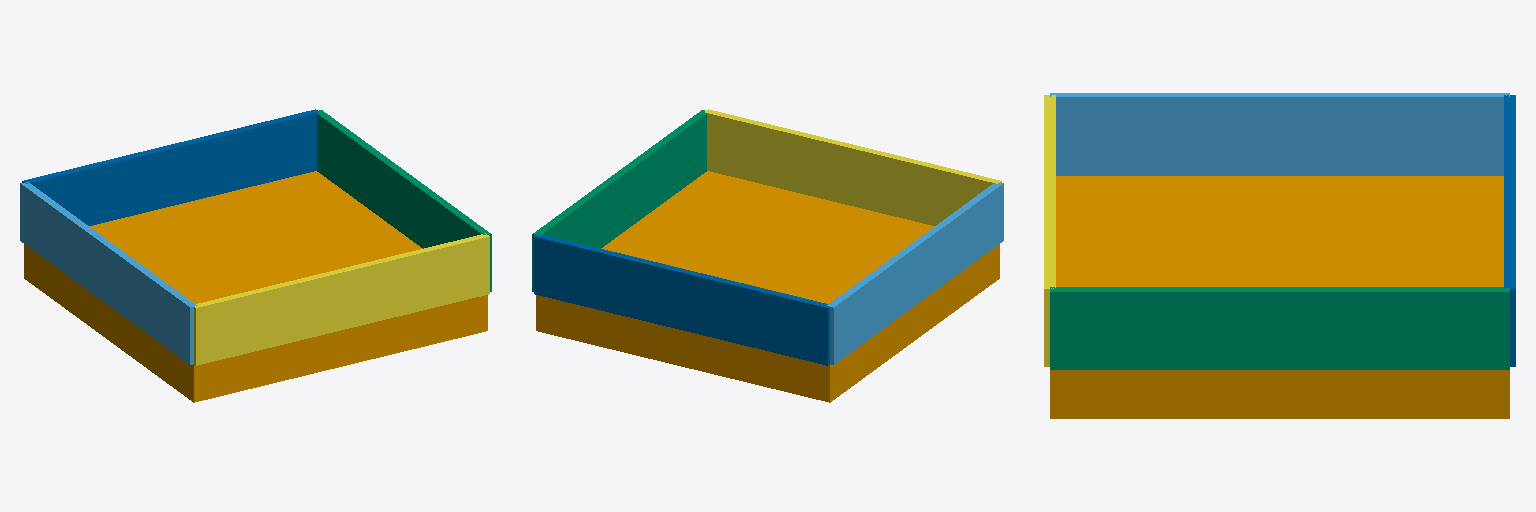
robot.urdf — cube:
<?xml version="1.0" ?>
<robot name="cube">
    <link name="base">
        <contact>
            <lateral_friction value="1.0"/>
            <rolling_friction value="0.0"/>
            <contact_cfm value="0.0"/>
            <contact_erp value="1.0"/>
        </contact>
        <inertial>
            <origin rpy="0 0 0" xyz="0 0 0"/>
            <mass value="100.0"/>
            <inertia ixx="1" ixy="0" ixz="0" iyy="1" iyz="0" izz="1"/>
        </inertial>
        <visual>
            <origin rpy="0 0 0" xyz="0 0 0"/>
            <geometry>
                <box size="8 8 1"/>
            </geometry>
        </visual>
        <collision>
            <origin rpy="0 0 0" xyz="0 0 0"/>
            <geometry>
                <box size="8 8 1"/>
            </geometry>
        </collision>
    </link>
    <joint name="wall_S" type="fixed" >
        <parent link = "base" />
        <child link="wall_S" />
                <origin rpy = "0 0 0" xyz = "-4 0.0 0.5" />
    </joint>
    <link name="wall_S">
        <contact>
            <lateral_friction value="1.0"/>
            <rolling_friction value="0.0"/>
            <contact_cfm value="0.0"/>
            <contact_erp value="1.0"/>
        </contact>
        <inertial>
            <origin rpy="0 0 0" xyz="0 0 0.75"/>
            <mass value="10.0"/>
            <inertia ixx="1" ixy="0" ixz="0" iyy="1" iyz="0" izz="1"/>
        </inertial>
        <visual>
            <origin rpy="0 0 0" xyz="0 0 0.75"/>
            <geometry>
                <box size="0.2 8 1.5"/>
            </geometry>
        </visual>
        <collision>
            <origin rpy="0 0 0" xyz="0 0 0.75"/>
            <geometry>
                <box size="0.2 8 1.5"/>
            </geometry>
        </collision>
    </link>
    <joint name="wall_N" type="fixed" >
        <parent link = "base" />
        <child link="wall_N" />
                <origin rpy = "0 0 0" xyz = "4.0 0.0 0.5" />
    </joint>
    <link name="wall_N">
        <contact>
            <lateral_friction value="1.0"/>
            <rolling_friction value="0.0"/>
            <contact_cfm value="0.0"/>
            <contact_erp value="1.0"/>
        </contact>
        <inertial>
            <origin rpy="0 0 0" xyz="0 0 0.75"/>
            <mass value="10.0"/>
            <inertia ixx="1" ixy="0" ixz="0" iyy="1" iyz="0" izz="1"/>
        </inertial>
        <visual>
            <origin rpy="0 0 0" xyz="0 0 0.75"/>
            <geometry>
                <box size="0.2 8 1.5"/>
            </geometry>
        </visual>
        <collision>
            <origin rpy="0 0 0" xyz="0 0 0.75"/>
            <geometry>
                <box size="0.2 8 1.5"/>
            </geometry>
        </collision>
    </link>
    <joint name="wall_W" type="fixed" >
        <parent link = "base" />
        <child link="wall_W" />
                <origin rpy = "0 0 0" xyz = "0.0 -4.0 0.5" />
    </joint>
    <link name="wall_W">
        <contact>
            <lateral_friction value="1.0"/>
            <rolling_friction value="0.0"/>
            <contact_cfm value="0.0"/>
            <contact_erp value="1.0"/>
        </contact>
        <inertial>
            <origin rpy="0 0 0" xyz="0 0 0.75"/>
            <mass value="10.0"/>
            <inertia ixx="1" ixy="0" ixz="0" iyy="1" iyz="0" izz="1"/>
        </inertial>
        <visual>
            <origin rpy="0 0 0" xyz="0 0 0.75"/>
            <geometry>
                <box size="8 0.2 1.5"/>
            </geometry>
        </visual>
        <collision>
            <origin rpy="0 0 0" xyz="0 0 0.75"/>
            <geometry>
                <box size="8 0.2 1.5"/>
            </geometry>
        </collision>
    </link>
    <joint name="wall_E" type="fixed" >
        <parent link = "base" />
        <child link="wall_E" />
                <origin rpy = "0 0 0" xyz = "0.0 4.0 0.5" />
    </joint>
    <link name="wall_E">
        <contact>
            <lateral_friction value="1.0"/>
            <rolling_friction value="0.0"/>
            <contact_cfm value="0.0"/>
            <contact_erp value="1.0"/>
        </contact>
        <inertial>
            <origin rpy="0 0 0" xyz="0 0 0.75"/>
            <mass value="10.0"/>
            <inertia ixx="1" ixy="0" ixz="0" iyy="1" iyz="0" izz="1"/>
        </inertial>
        <visual>
            <origin rpy="0 0 0" xyz="0 0 0.75"/>
            <geometry>
                <box size="8 0.2 1.5"/>
            </geometry>
        </visual>
        <collision>
            <origin rpy="0 0 0" xyz="0 0 0.75"/>
            <geometry>
                <box size="8 0.2 1.5"/>
            </geometry>
        </collision>
    </link>
</robot>

--- Render facts (derived) ---
3 views of the same robot in one strip: view 1: azimuth 30°, elevation 25°; view 2: azimuth 150°, elevation 25°; view 3: azimuth 270°, elevation 25° (orthographic).
Robot: cube — 5 links, 4 joints (4 fixed); root link base; default pose: every joint at zero.
Links seen in each view (by area): view 1: base, wall_W, wall_E, wall_S, wall_N; view 2: base, wall_E, wall_W, wall_S, wall_N; view 3: base, wall_N, wall_S, wall_E, wall_W.
Boxes of the visible links, left/top/right/bottom form: base: left=24, top=171, right=487, bottom=402; wall_W: left=194, top=233, right=489, bottom=365; wall_E: left=22, top=109, right=318, bottom=225; wall_S: left=20, top=182, right=196, bottom=364; wall_N: left=317, top=110, right=491, bottom=291; base: left=536, top=171, right=999, bottom=402; wall_E: left=534, top=233, right=829, bottom=365; wall_W: left=705, top=109, right=1001, bottom=225; wall_S: left=827, top=183, right=1003, bottom=364; wall_N: left=532, top=110, right=706, bottom=291; base: left=1050, top=176, right=1509, bottom=418; wall_N: left=1050, top=287, right=1509, bottom=369; wall_S: left=1050, top=93, right=1509, bottom=175; wall_E: left=1504, top=95, right=1515, bottom=366; wall_W: left=1044, top=95, right=1055, bottom=366.
Bounding box of the posed robot: 8.2 × 8.2 × 2.5 m (x, y, z).
Geometry: primitives only (box / cylinder / sphere), no mesh files.